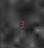three: (19, 19, 22, 28)
